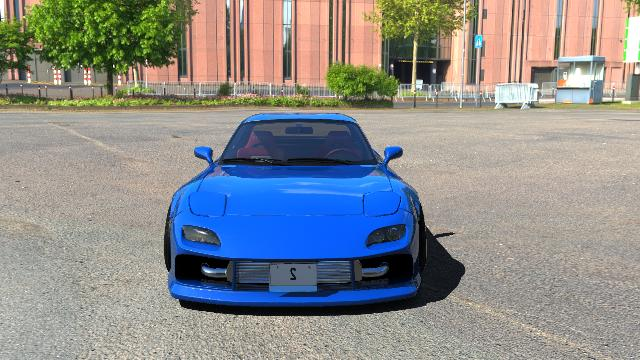License Plate: (268, 262, 318, 290)
